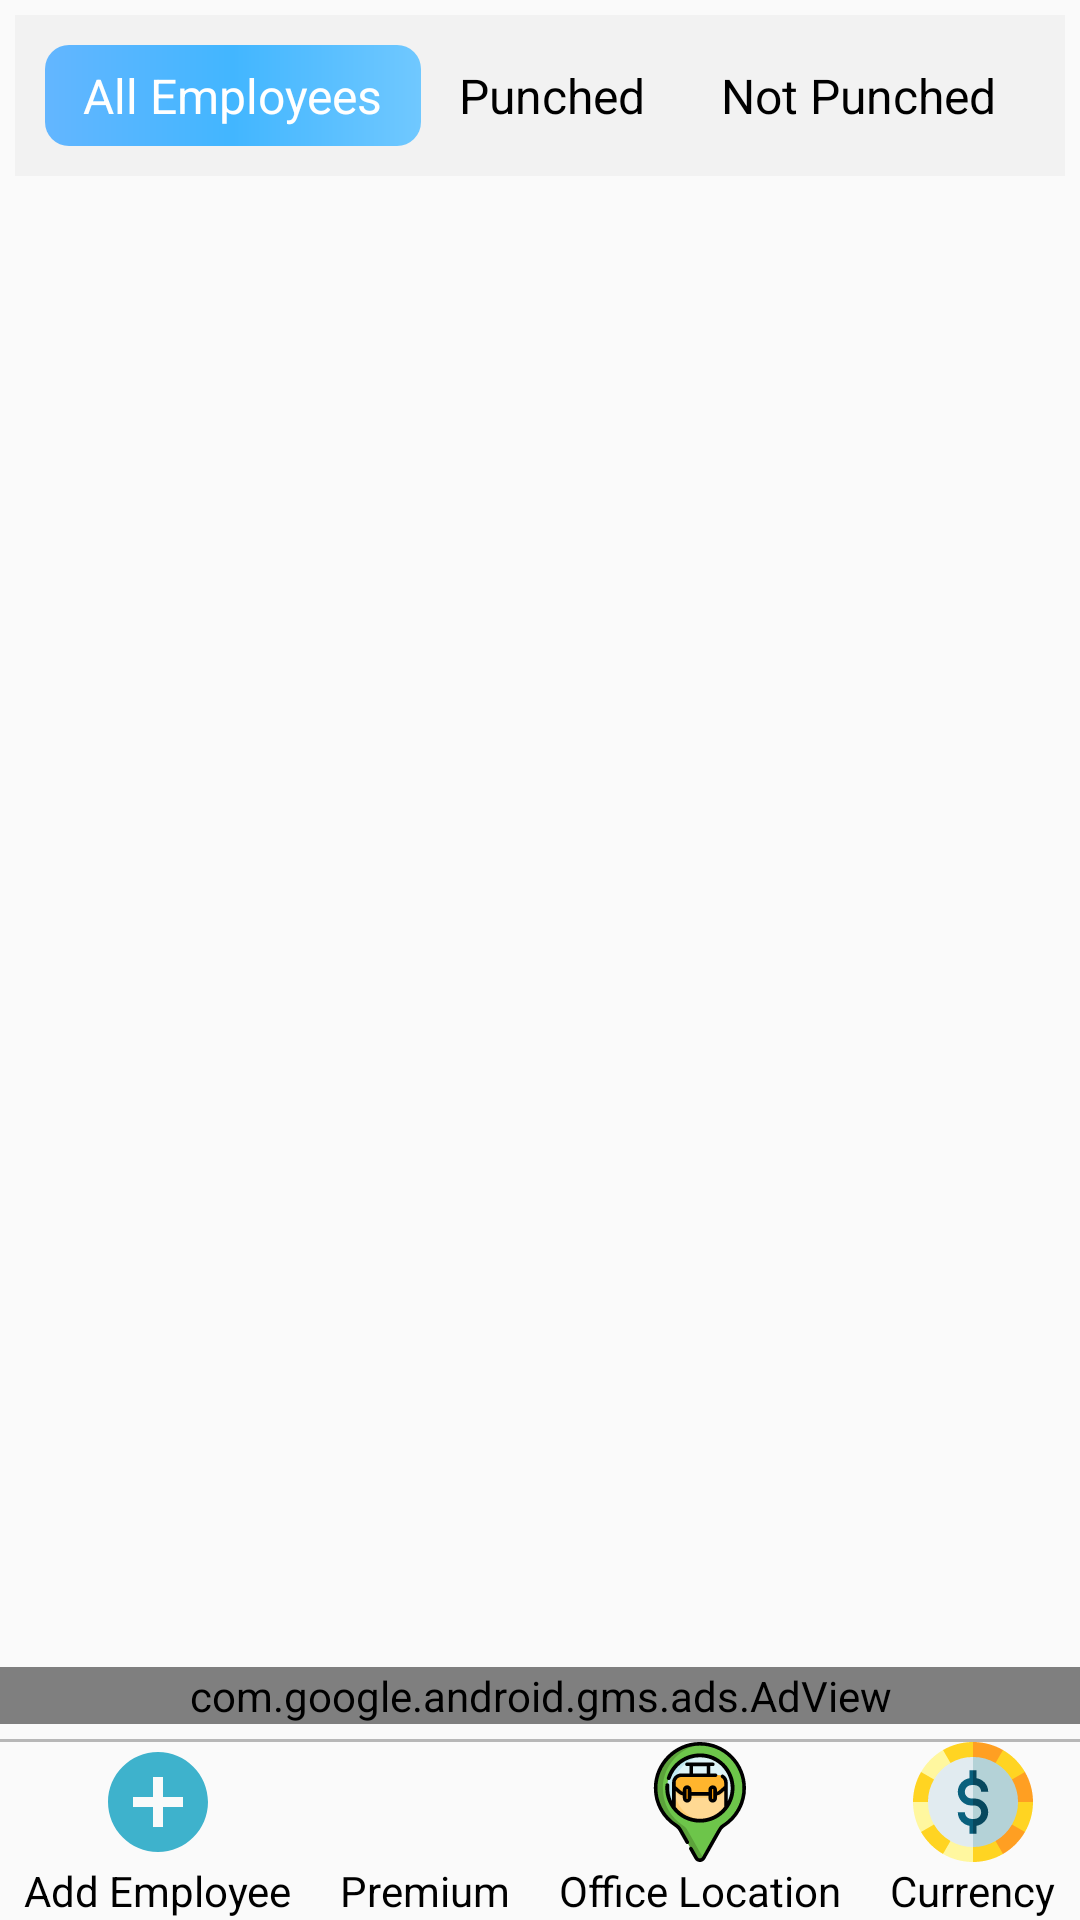

Where to tap for icons on this 1080×1920 app screen, as point (x, y):
add circle: point (158, 1802)
money: point (973, 1802)
pin: point (699, 1802)
